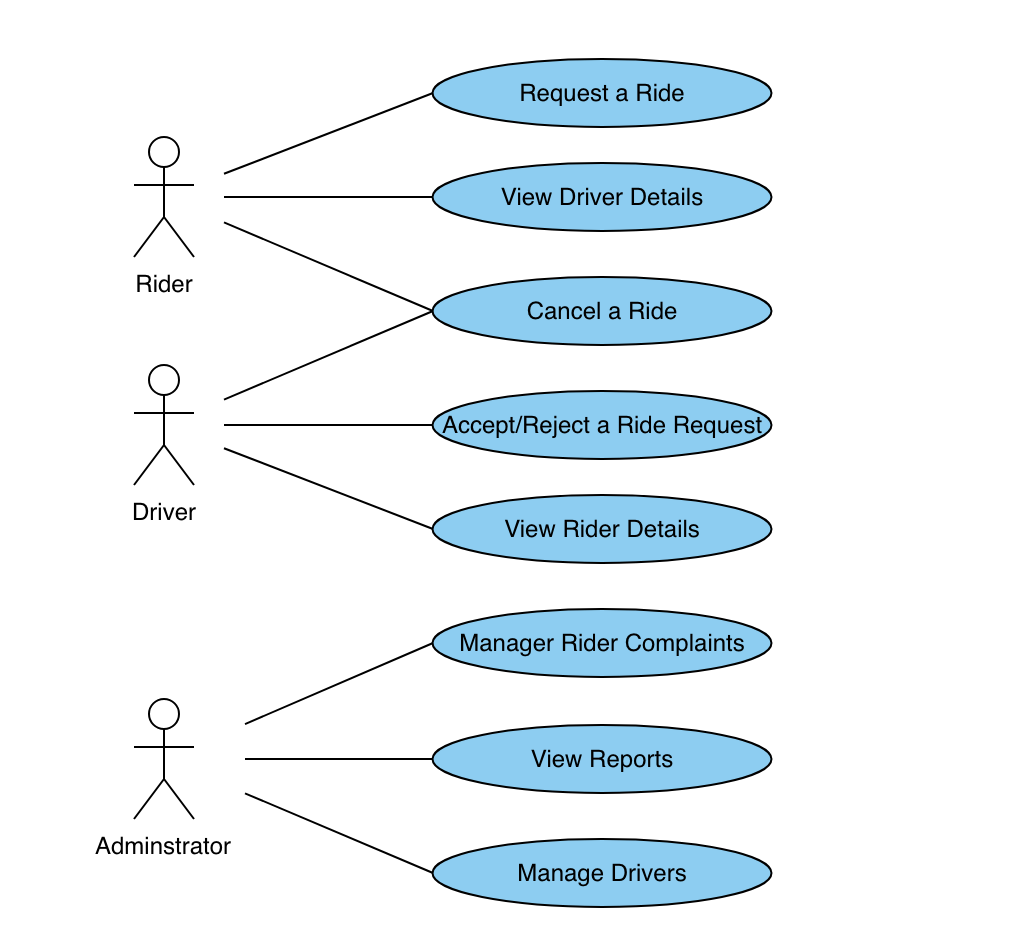actor: (127, 686, 206, 823), (122, 132, 200, 265), (125, 360, 201, 494)
association: (220, 440, 429, 529), (224, 220, 430, 309), (223, 313, 429, 401), (222, 91, 433, 176), (241, 642, 430, 729), (241, 788, 430, 872), (224, 406, 430, 441), (224, 181, 432, 214), (247, 740, 433, 771)
text: (450, 627, 755, 661), (442, 409, 766, 441), (489, 179, 713, 215), (521, 735, 696, 780), (510, 289, 682, 330), (497, 512, 710, 544), (512, 76, 692, 112), (514, 857, 693, 889), (84, 827, 239, 863), (128, 499, 208, 529), (132, 268, 205, 298)
use_case: (429, 835, 775, 912), (430, 56, 775, 132), (431, 273, 776, 349), (427, 721, 772, 797), (430, 604, 773, 680), (429, 492, 772, 567), (430, 160, 774, 234)
